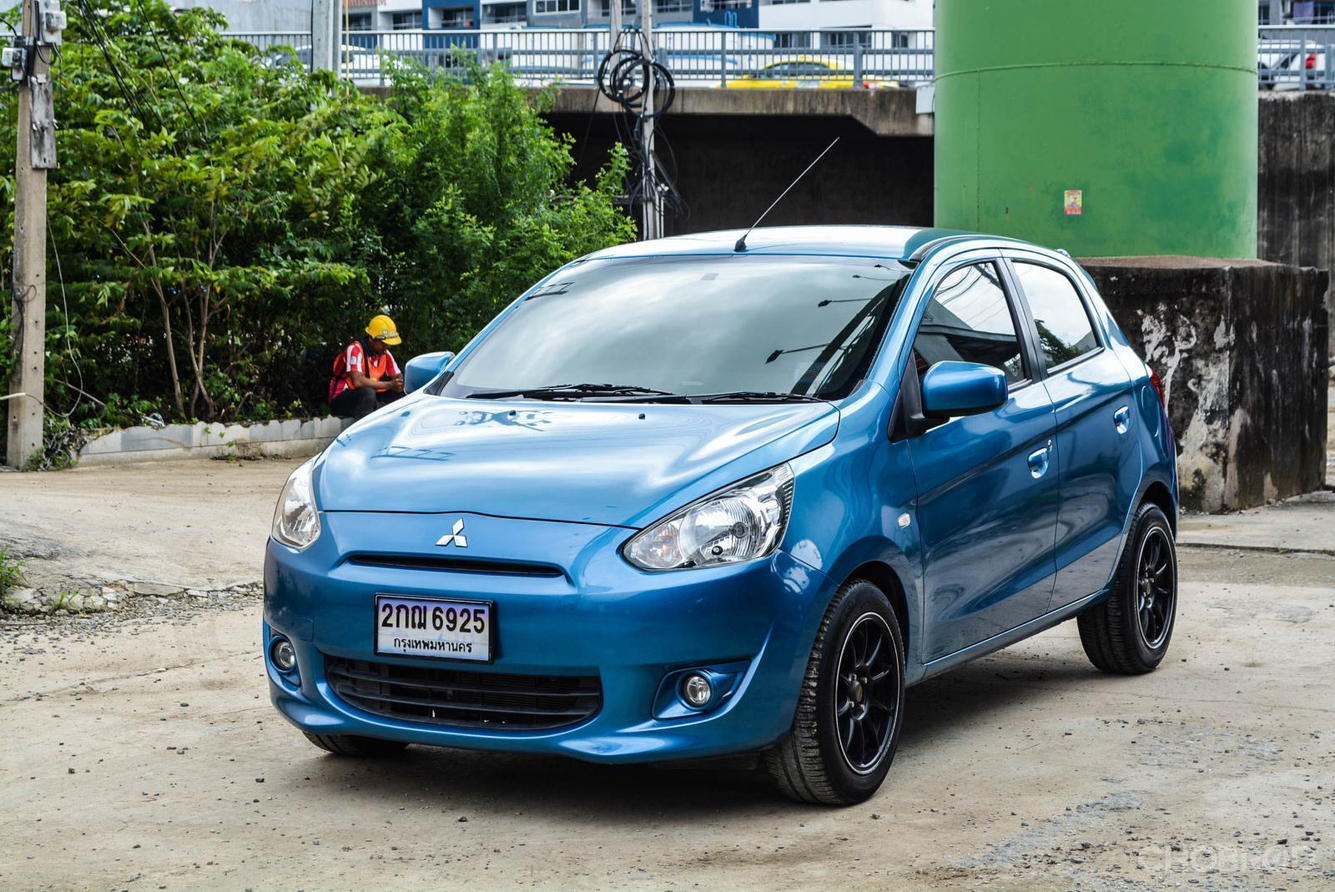license-plate: (371, 592, 501, 668)
